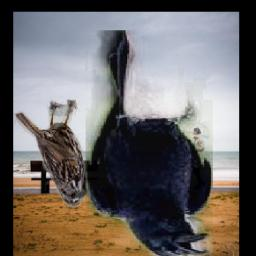Crow: (86, 30, 213, 256)
Sparrow: (13, 101, 86, 209)
